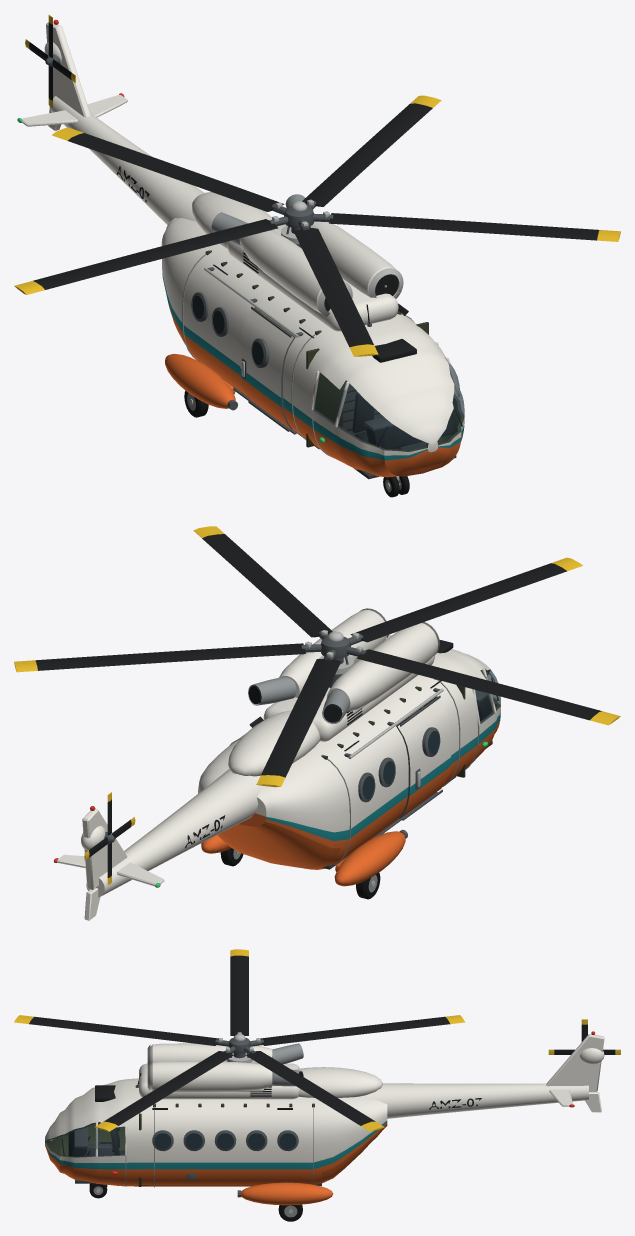
The model's file is HelicopteroAMZ07.glb.
3 renders of one model, top to bottom at view 1: azimuth 30°, elevation 25°; view 2: azimuth 150°, elevation 25°; view 3: azimuth 270°, elevation 25°, orthographic. The views are drawn at different scales.
Visible parts, largest first — view 1: Casco, Rotor, Motores, Vidrios, Interior, Puerta, Tren, Detalles, RotorCola; view 2: Casco, Rotor, Motores, Puerta, Rampa, Tren, Detalles, Vidrios, Interior, RotorCola; view 3: Casco, Rotor, Motores, Vidrios, Detalles, Tren, Interior, Rampa, RotorCola.
Boxes of the visible parts, <box> form: Casco: <box>21,22,464,477</box>; Rotor: <box>14,95,620,356</box>; Motores: <box>44,41,403,331</box>; Vidrios: <box>192,296,464,451</box>; Interior: <box>198,250,456,479</box>; Puerta: <box>240,306,294,431</box>; Tren: <box>165,353,409,497</box>; Detalles: <box>17,19,462,478</box>; RotorCola: <box>25,15,75,107</box>; Casco: <box>57,649,500,920</box>; Rotor: <box>14,526,620,787</box>; Motores: <box>81,608,439,850</box>; Puerta: <box>396,695,451,820</box>; Rampa: <box>217,813,340,869</box>; Tren: <box>201,829,407,899</box>; Detalles: <box>54,668,498,887</box>; Vidrios: <box>362,669,500,798</box>; Interior: <box>242,639,492,869</box>; RotorCola: <box>84,792,135,884</box>; Casco: <box>45,1034,604,1186</box>; Rotor: <box>14,949,465,1131</box>; Motores: <box>139,1043,604,1099</box>; Vidrios: <box>45,1122,296,1157</box>; Detalles: <box>50,1031,595,1187</box>; Tren: <box>89,1182,333,1221</box>; Interior: <box>68,1085,321,1186</box>; Rampa: <box>322,1124,387,1183</box>; RotorCola: <box>548,1019,620,1054</box>.
Size of the model in its own units: 30.23 by 13.44 by 42.74.
Materials: 2 (1 with a texture image).
